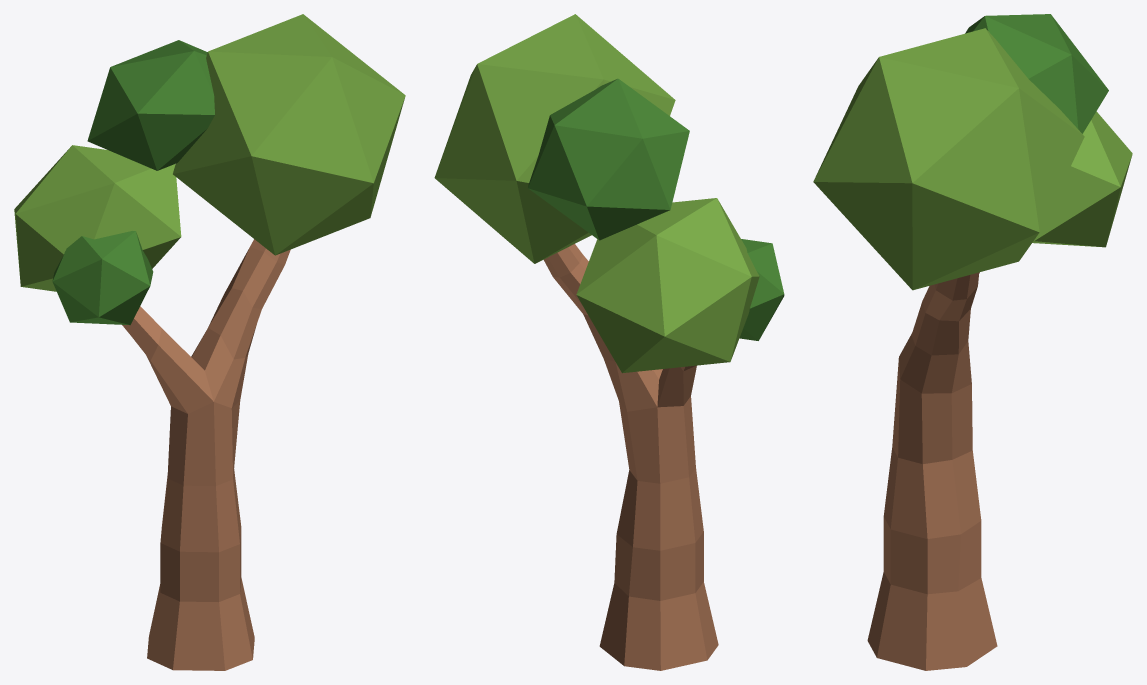
File: Tree.fbx
3 views of the same model, side by side, from view 1: azimuth 30°, elevation 25°; view 2: azimuth 150°, elevation 25°; view 3: azimuth 270°, elevation 25° (orthographic). The views are drawn at different scales.
Parts seen in each view (by area): view 1: Tree; view 2: Tree; view 3: Tree.
Part boxes in pixels (x1,y1,x2,y2): Tree: [14, 14, 405, 670]; Tree: [434, 14, 784, 670]; Tree: [813, 14, 1132, 670].
Bounding box in the file's own units: 157 × 261 × 117.
